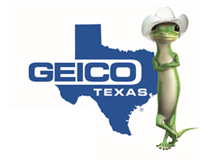Geico: (28, 61, 137, 82)
